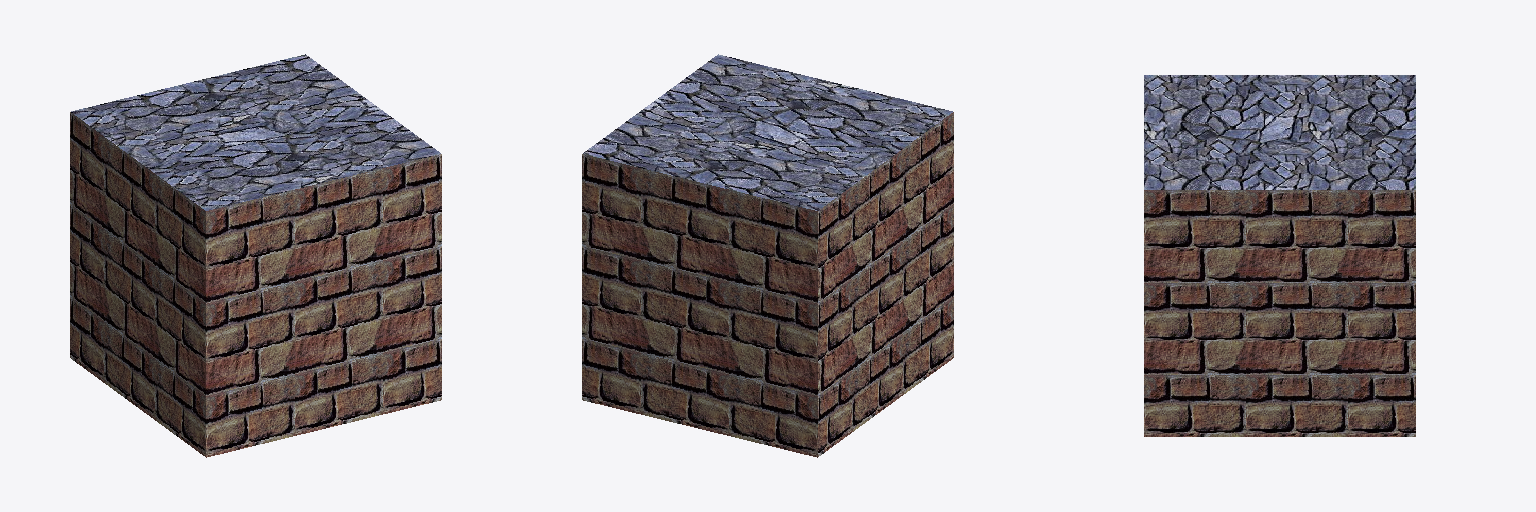
3 renders of one model, left to right at view 1: azimuth 30°, elevation 25°; view 2: azimuth 150°, elevation 25°; view 3: azimuth 270°, elevation 25°, orthographic.
Size of the model in its own units: 0.6 by 0.6 by 0.6.
1 materials, 1 textured.